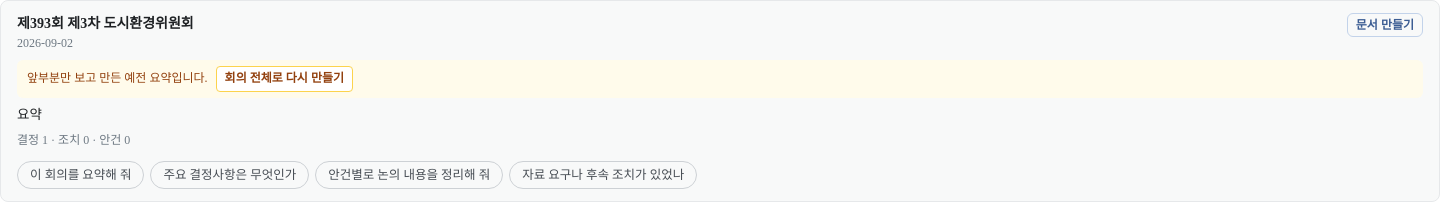
Scenario: AiMeetingBrief › shows the partial badge with refresh for old summaries
The width and height of the screenshot is (1440, 219).
Expected: the element with test id "ai-brief-partial" is shown, [17, 60, 1423, 98]
Step 1. Click the button with test id "ai-brief-refresh" → (284, 79), box [216, 66, 353, 92]
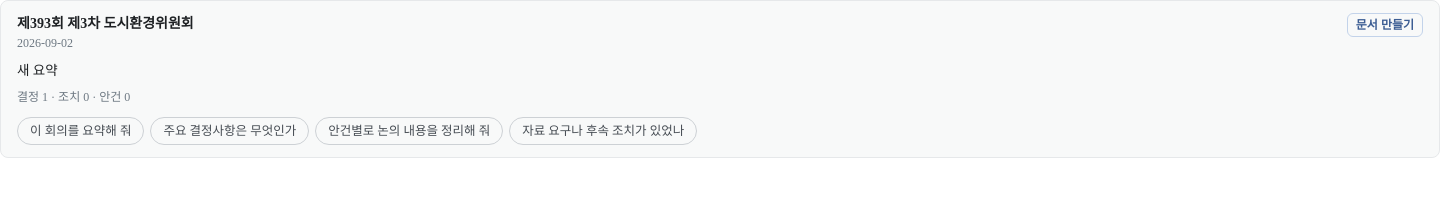
Result: the element with test id "ai-brief-partial" is gone
Result: the text "새 요약" is shown at [17, 63, 58, 78]
